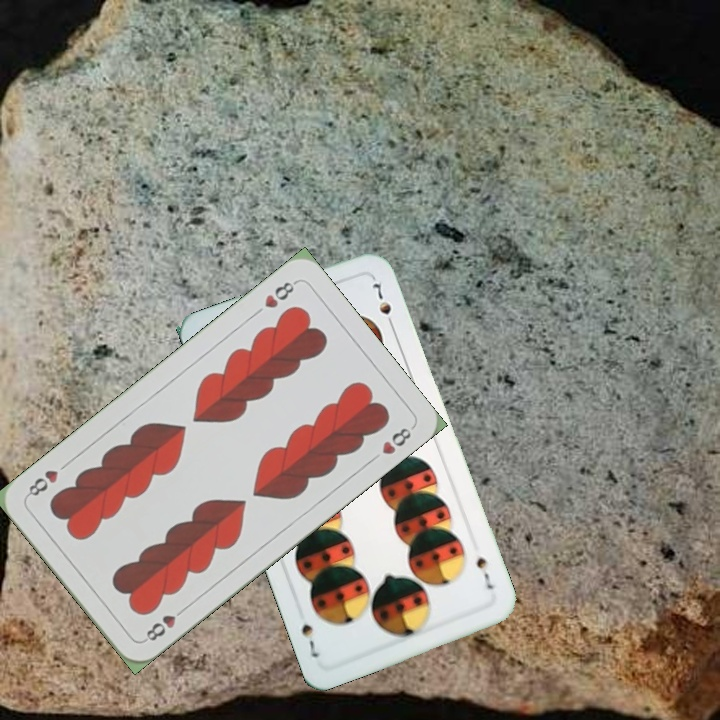H8: (140, 602, 189, 645), (260, 276, 300, 311)
S7: (472, 553, 496, 592)
